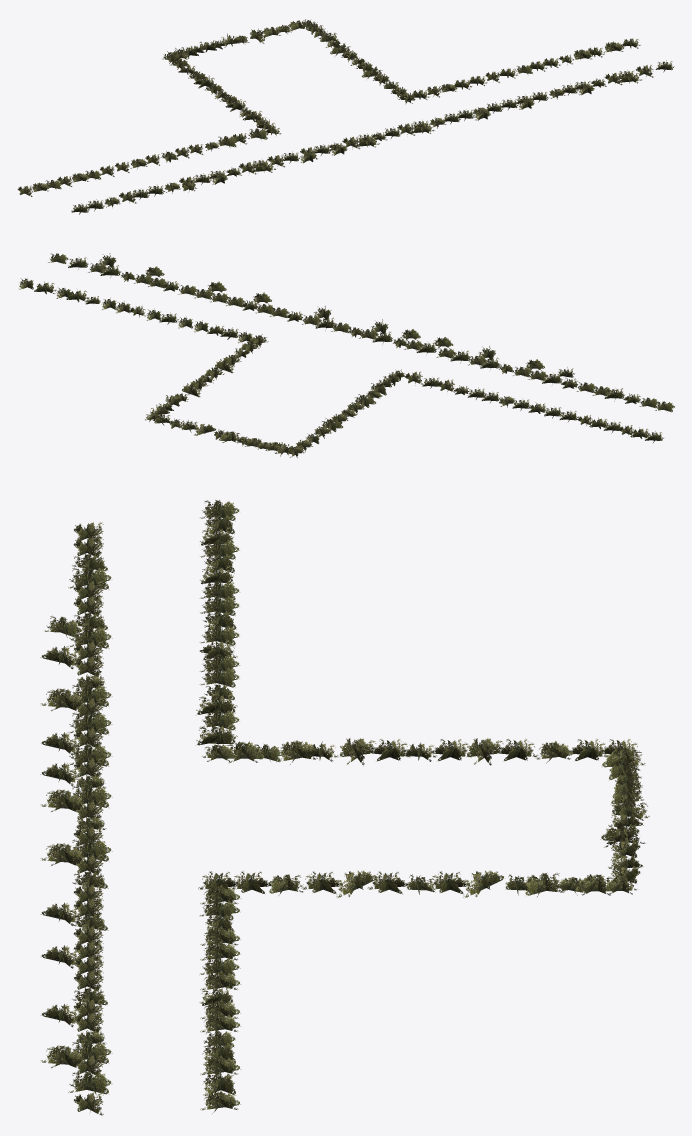
The model's file is bushes4.glb.
The picture shows the model from 3 angles, top to bottom: view 1: azimuth 30°, elevation 25°; view 2: azimuth 150°, elevation 25°; view 3: azimuth 270°, elevation 25°; orthographic projection. The views are drawn at different scales.
Visible parts, largest first — view 1: Bushs_01_Bush_0, Bushs_02_Bush_0, Bushs_Bush_0, Bushs_03_Bush_0, Bushs_04_Bush_0, Bushs_05_Bush_0, Bushs_06_Bush_0; view 2: Bushs_01_Bush_0, Bushs_Bush_0, Bushs_02_Bush_0, Bushs_03_Bush_0, Bushs_04_Bush_0, Bushs_05_Bush_0, Bushs_06_Bush_0; view 3: Bushs_01_Bush_0, Bushs_Bush_0, Bushs_02_Bush_0, Bushs_03_Bush_0, Bushs_04_Bush_0, Bushs_05_Bush_0, Bushs_06_Bush_0.
Boxes of the visible parts, x1,y1,x2,y2 form: Bushs_01_Bush_0: (71, 117, 446, 214); Bushs_02_Bush_0: (17, 126, 281, 196); Bushs_Bush_0: (443, 60, 674, 124); Bushs_03_Bush_0: (412, 38, 640, 99); Bushs_04_Bush_0: (303, 19, 415, 104); Bushs_05_Bush_0: (170, 57, 276, 130); Bushs_06_Bush_0: (162, 20, 305, 63); Bushs_01_Bush_0: (286, 305, 674, 412); Bushs_Bush_0: (48, 253, 289, 317); Bushs_02_Bush_0: (392, 369, 663, 442); Bushs_03_Bush_0: (19, 278, 252, 343); Bushs_04_Bush_0: (145, 334, 268, 421); Bushs_05_Bush_0: (296, 372, 399, 451); Bushs_06_Bush_0: (152, 413, 304, 457); Bushs_01_Bush_0: (40, 522, 112, 891); Bushs_Bush_0: (40, 884, 112, 1115); Bushs_02_Bush_0: (196, 500, 240, 761); Bushs_03_Bush_0: (199, 884, 241, 1113); Bushs_04_Bush_0: (198, 870, 636, 898); Bushs_05_Bush_0: (226, 738, 608, 765); Bushs_06_Bush_0: (600, 739, 649, 883).
Bounding box in the file's own units: 193 × 5.63 × 82.94.
Materials: 1 (1 with a texture image).
